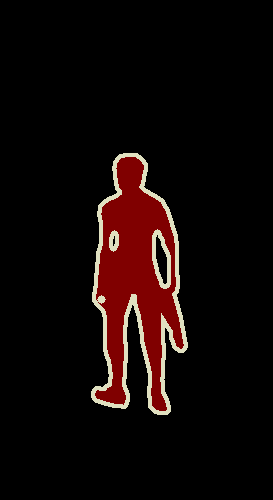person: (92, 155, 174, 411)
person/foot: (96, 387, 129, 407), (150, 389, 167, 412)
person/hand: (93, 285, 109, 308), (164, 278, 178, 295)
person/head: (114, 156, 144, 190)
